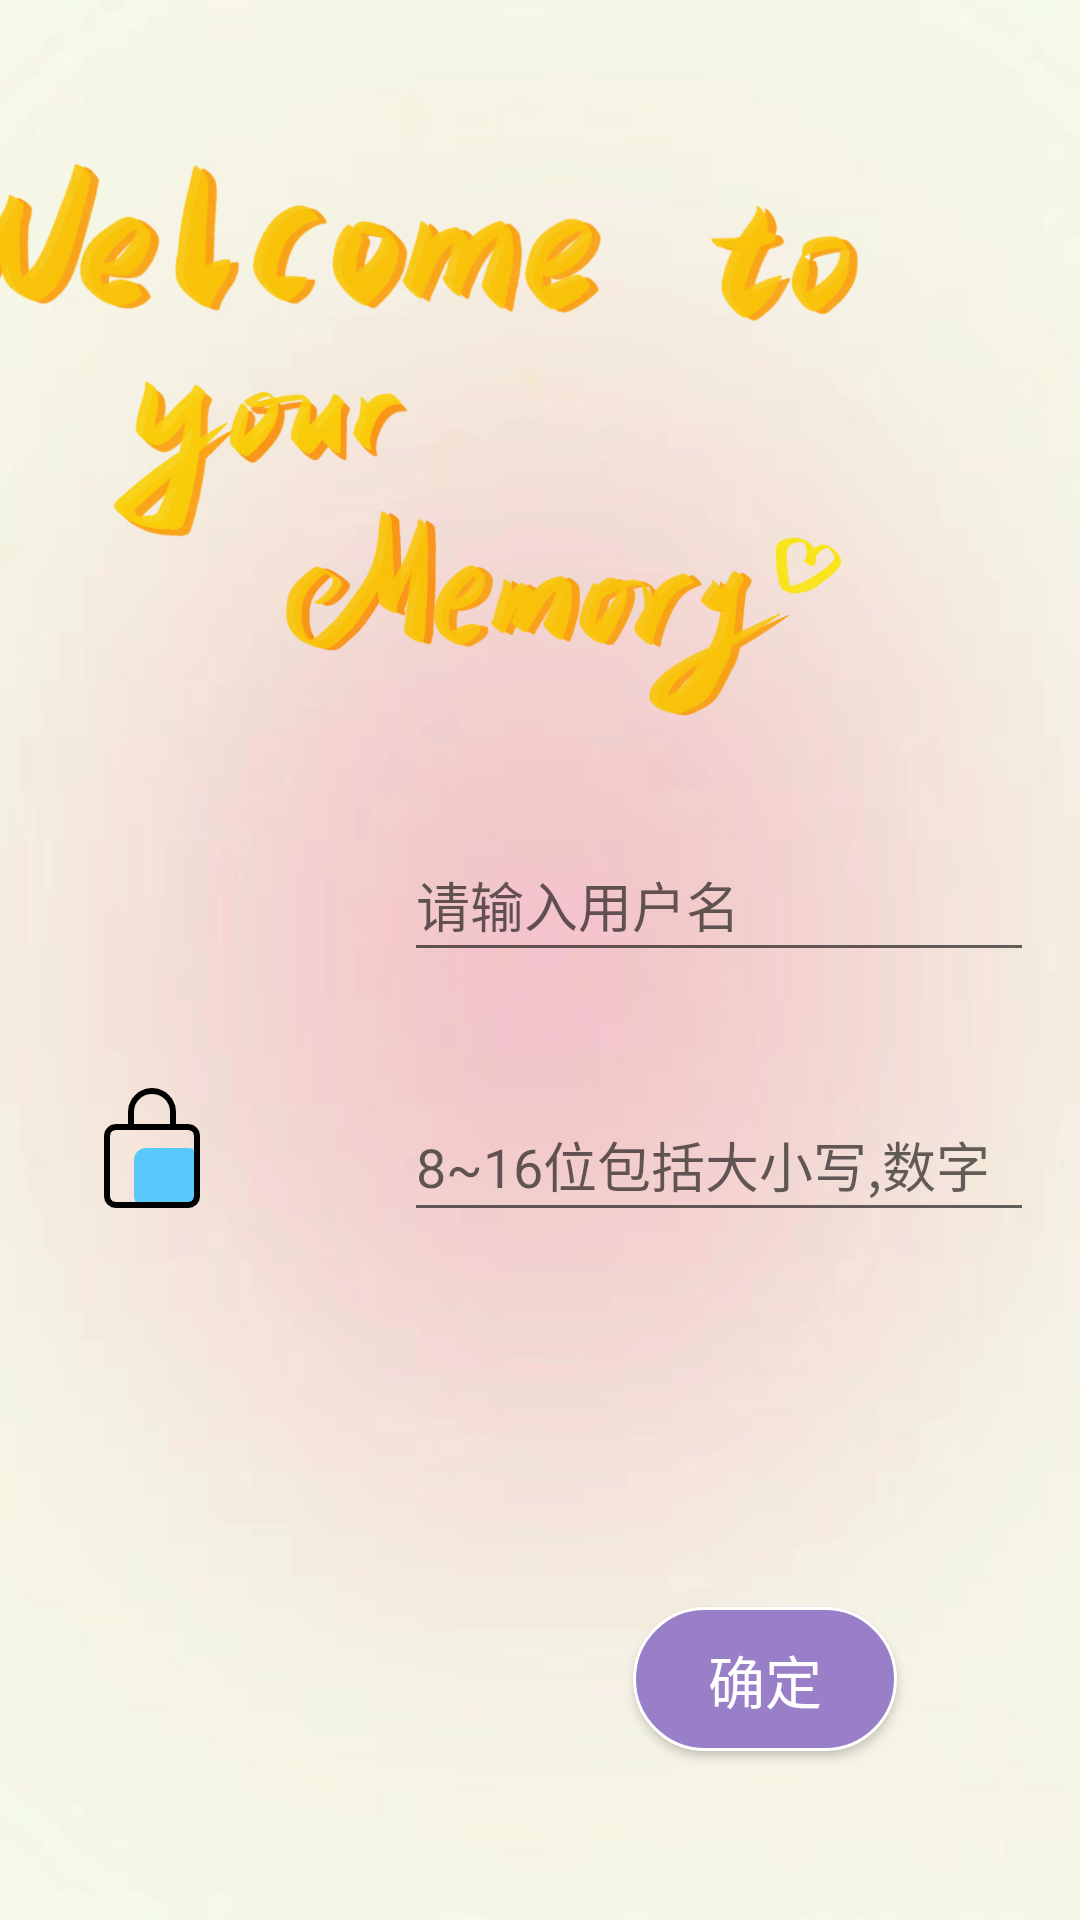

Icon click points for this 1080px×1920px phone screenshot, format (x=x, y=y):
pass: (x=152, y=1148)
